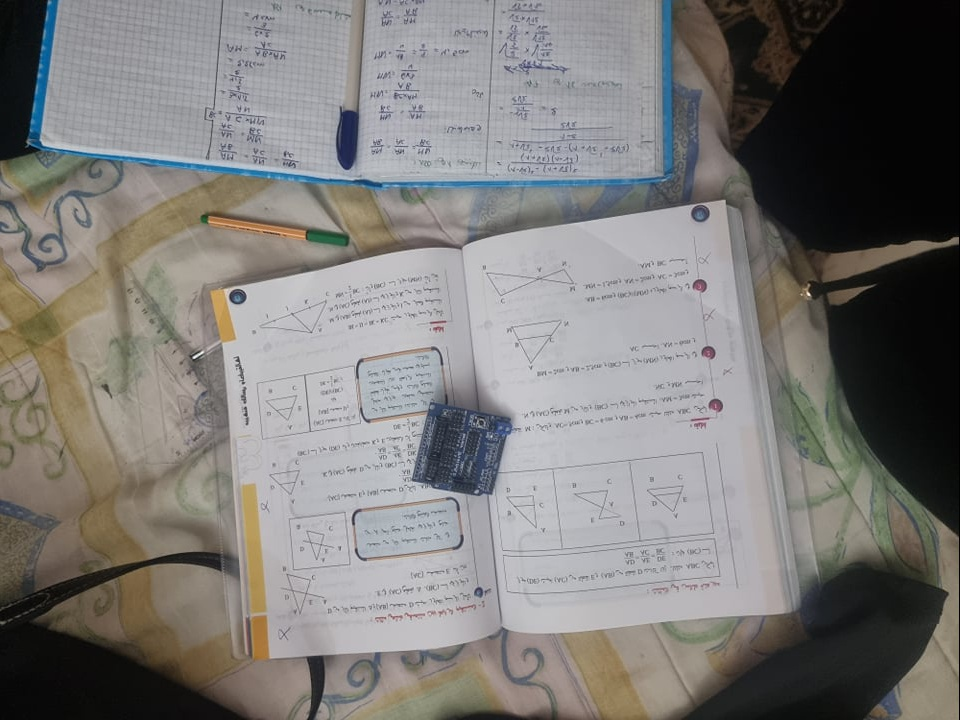5V EXPANSION: (412, 403, 516, 497)
